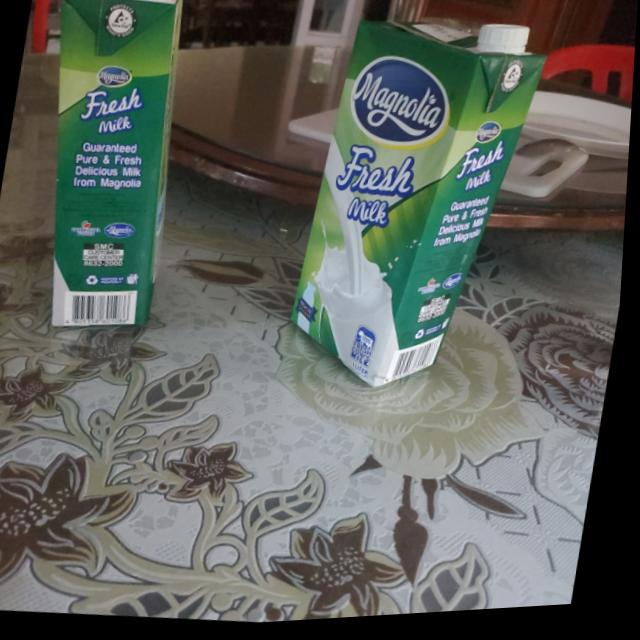milk: (286, 13, 555, 410), (8, 0, 207, 335)
